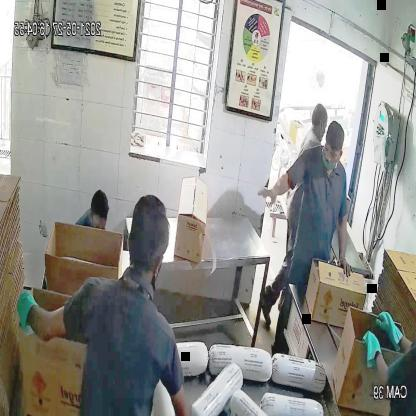no_goggles: (322, 143, 343, 165)
